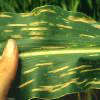Corn Gray leaf spot: (20, 7, 99, 99)
